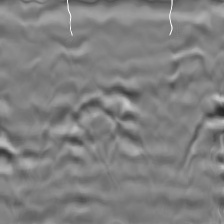Utility: (63, 83, 138, 156), (179, 99, 224, 167)
